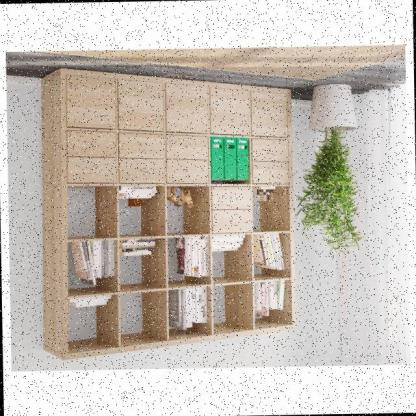Shelf: (30, 60, 298, 361)
